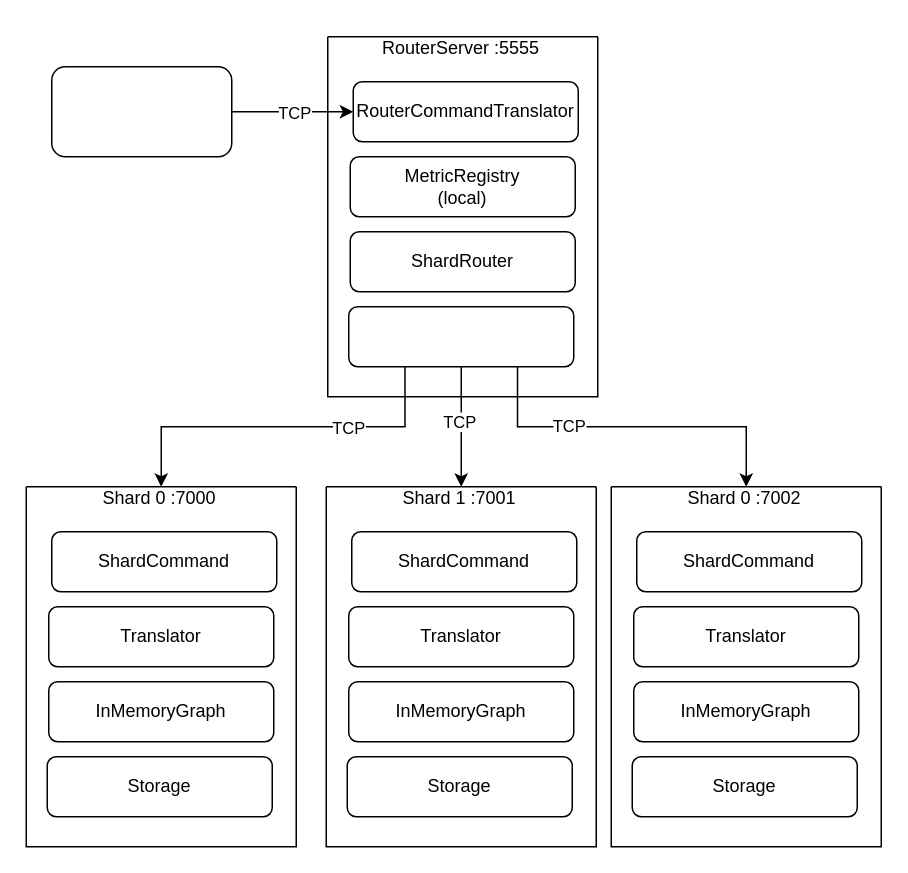
The diagram is 908 pixels wide and 873 high, and some of its shapes have lost their labels. Here are the shapes that lost their labels. From the top down, the centre of each, then its label:
At point 141,111: "Клиент GraphDBClient (слушает PUSH)".
At point 460,336: "SharedGraphStorage".
